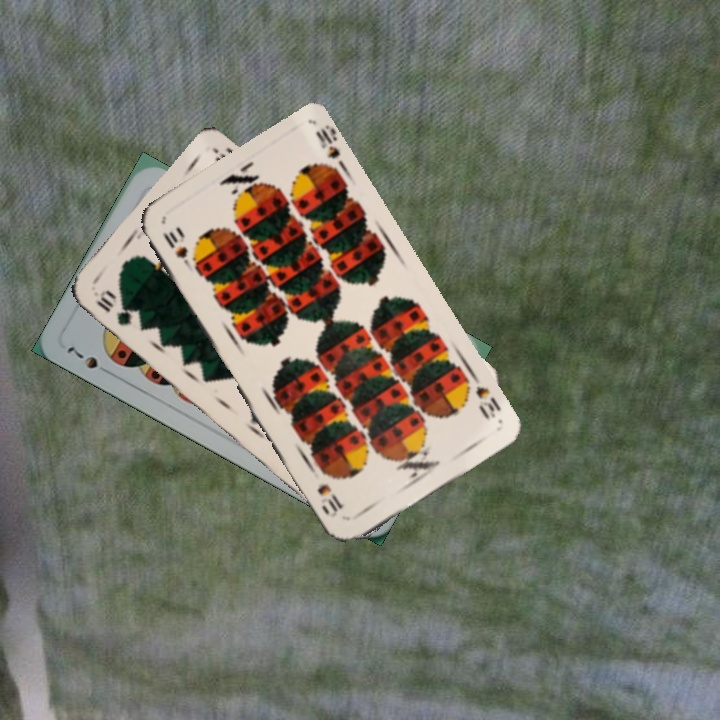G10: (90, 286, 134, 329)
S10: (467, 369, 504, 422), (158, 227, 198, 274)
S7: (62, 342, 115, 378)
